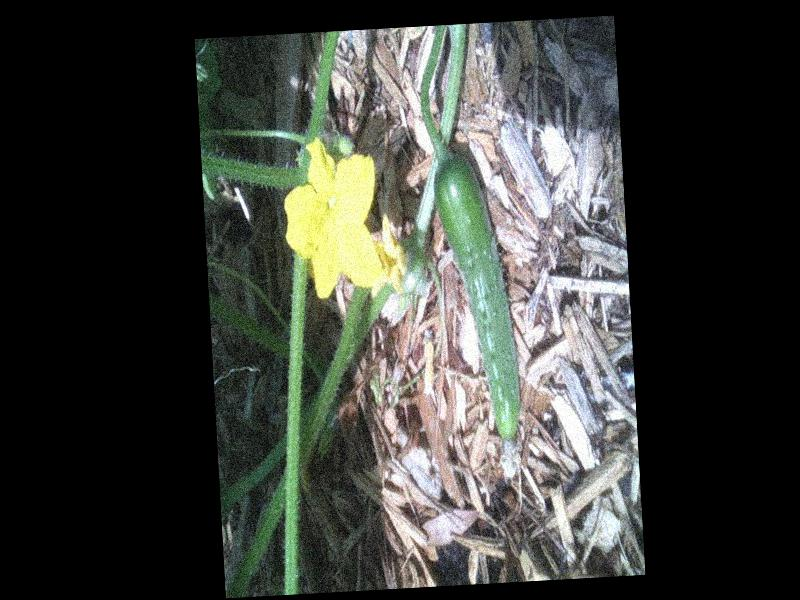Cucumber: (431, 146, 527, 474)
